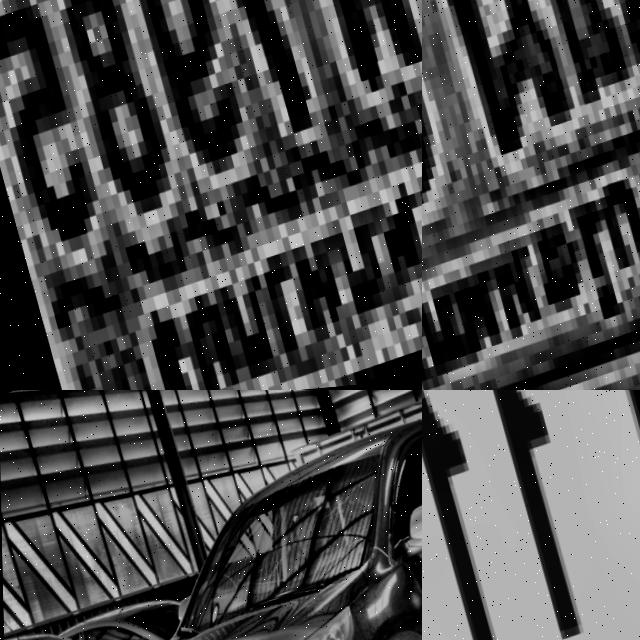license-plate: (0, 0, 422, 390), (422, 0, 640, 390), (422, 390, 640, 640)
